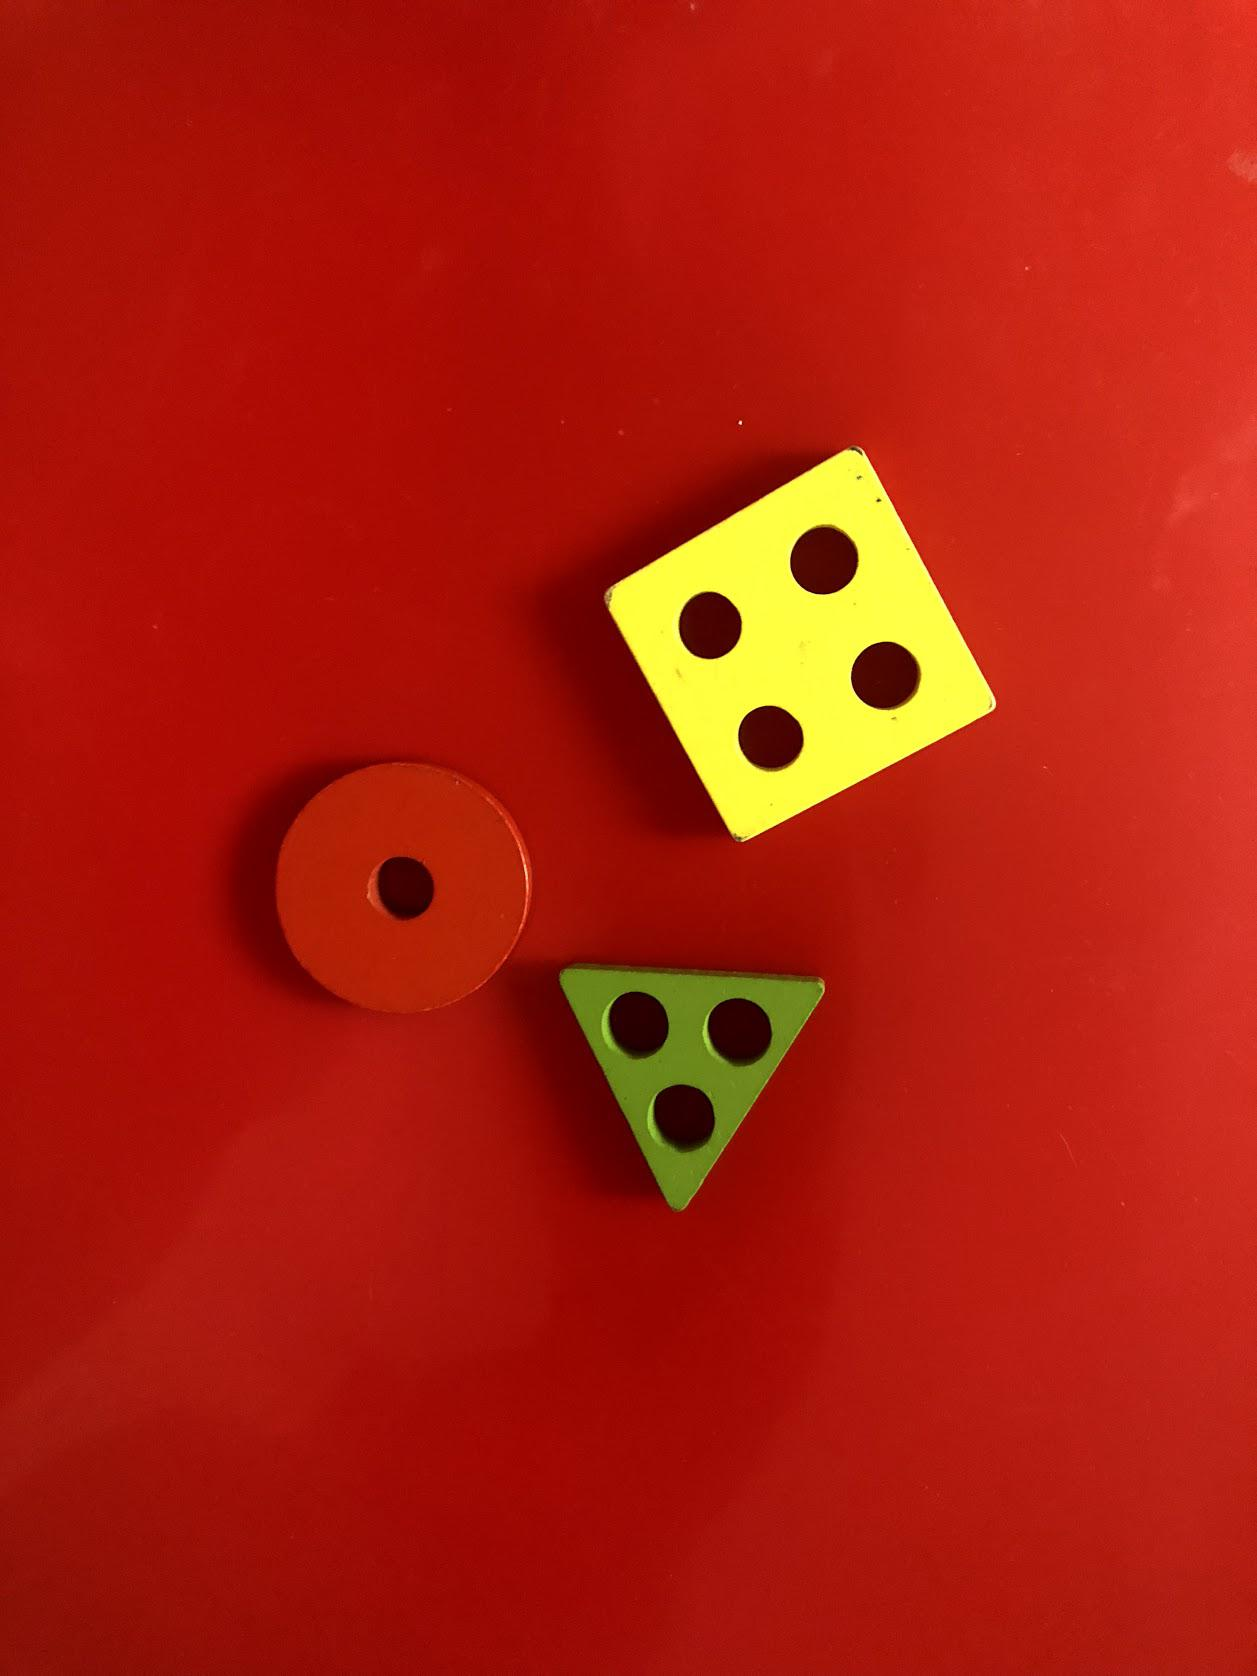Circle: (265, 756, 533, 1014)
Square: (606, 449, 1003, 845)
Triangle: (555, 967, 829, 1218)
